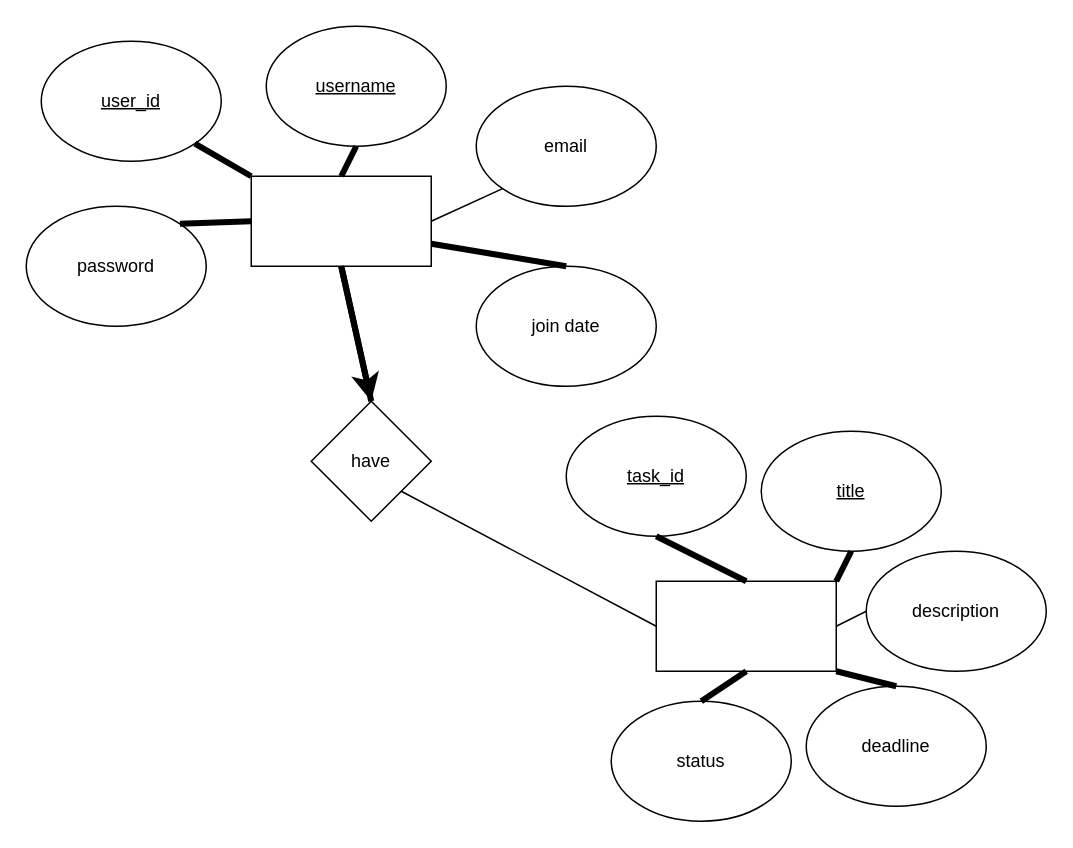
Image size: 1073x848. Some labels were removed from this diagram. The box of each missing label's shape, as (x1, y1, x2, y2) in pixels:
tasks: (655, 580, 836, 671)
users: (250, 175, 431, 266)
